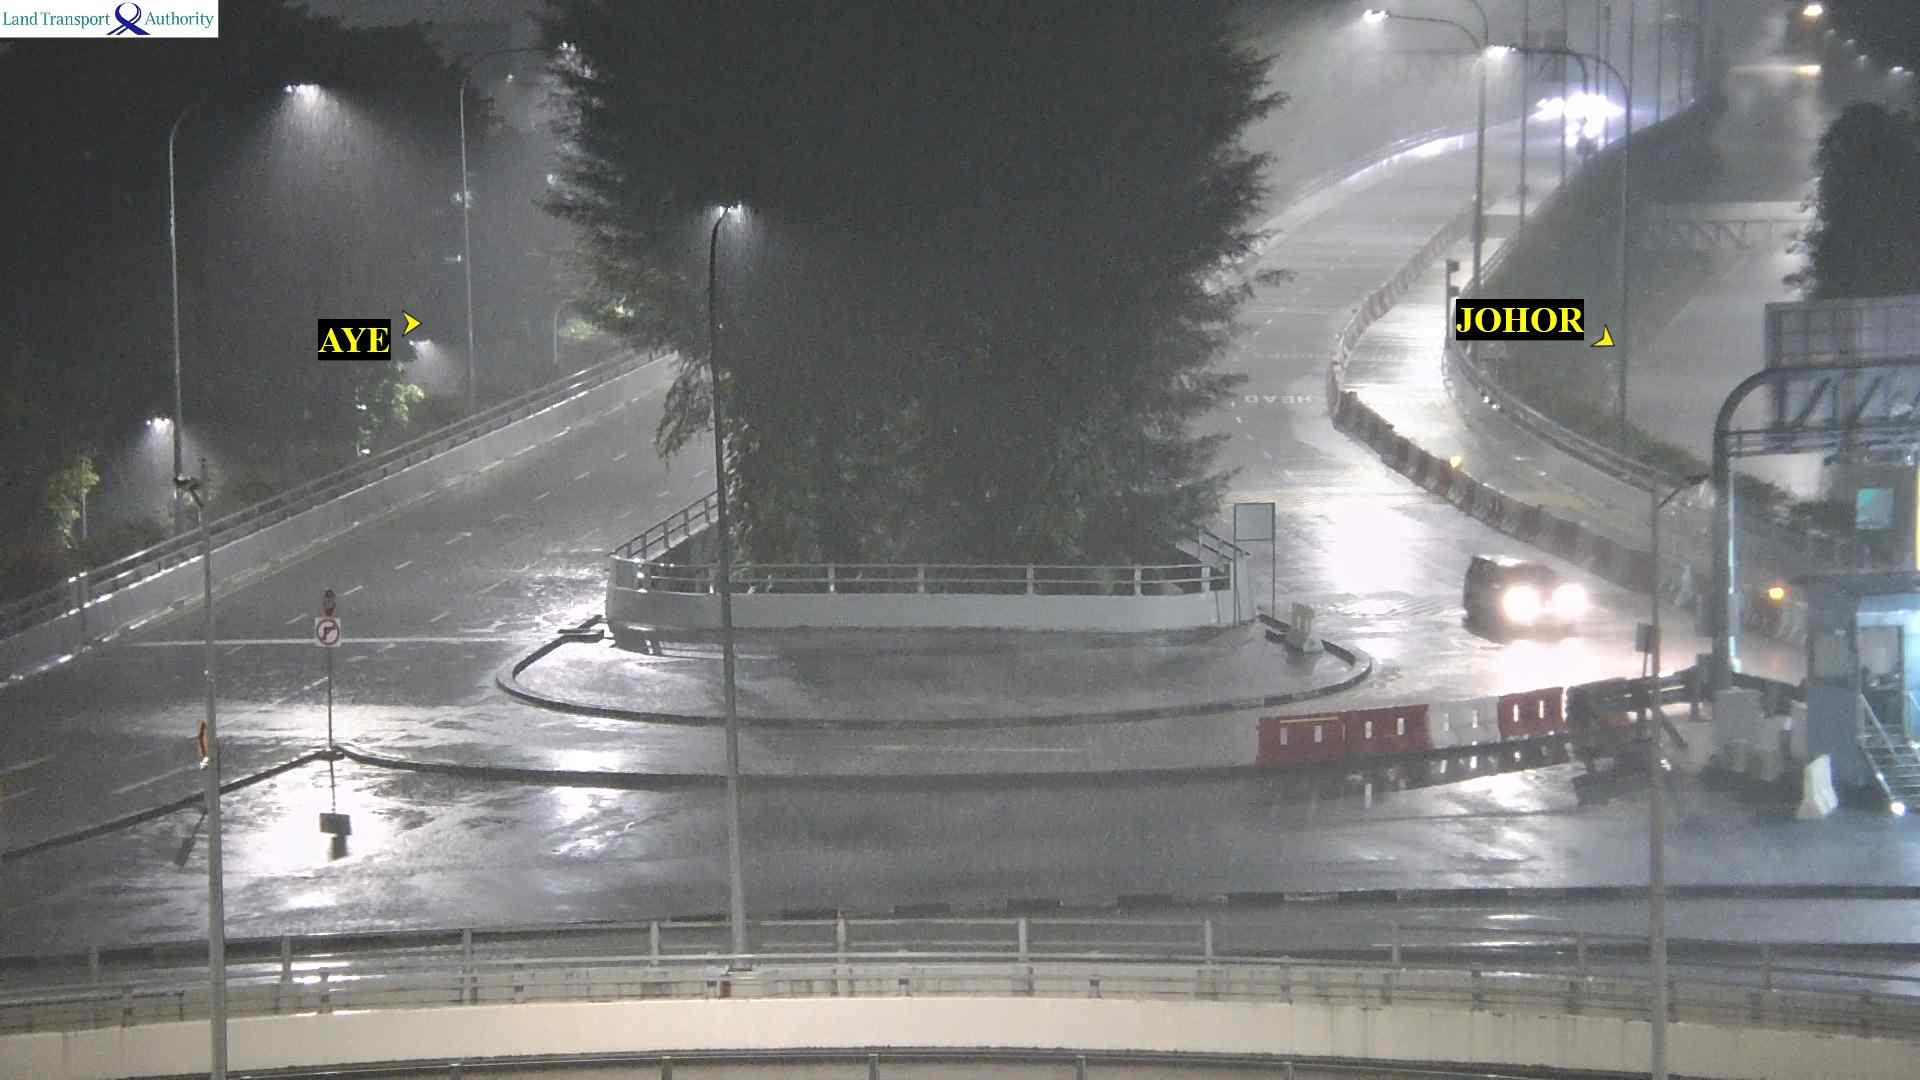vehicle-secondlink-johor: (1457, 555, 1582, 638)
